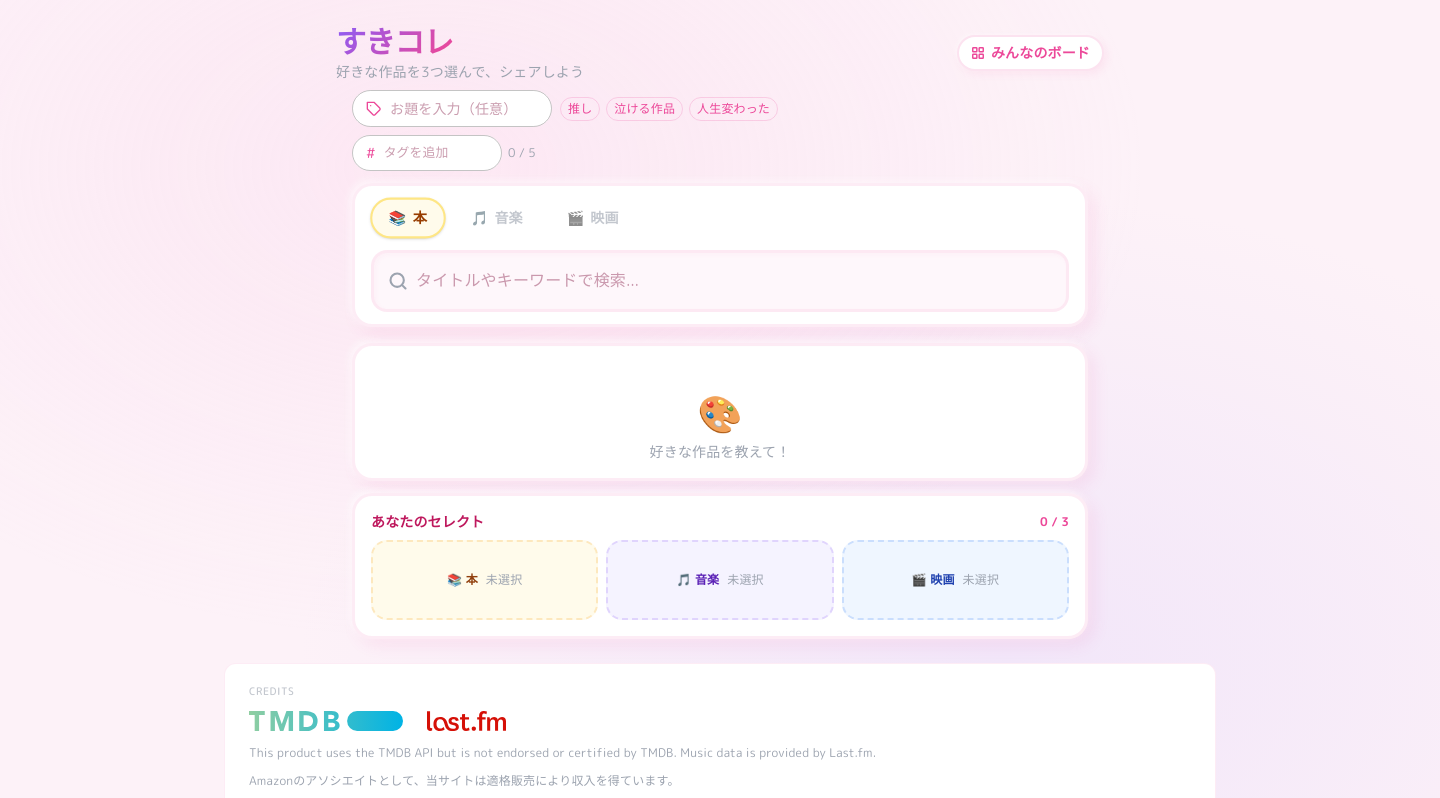
Test: SearchPage integration (no mocked hooks) › searches for a book and displays results
The image size is (1440, 798).
Type "村上春樹" into the field with placeholder "タイトルやキーワードで検索...". click: (741, 280)
box: [416,252,1066,308]
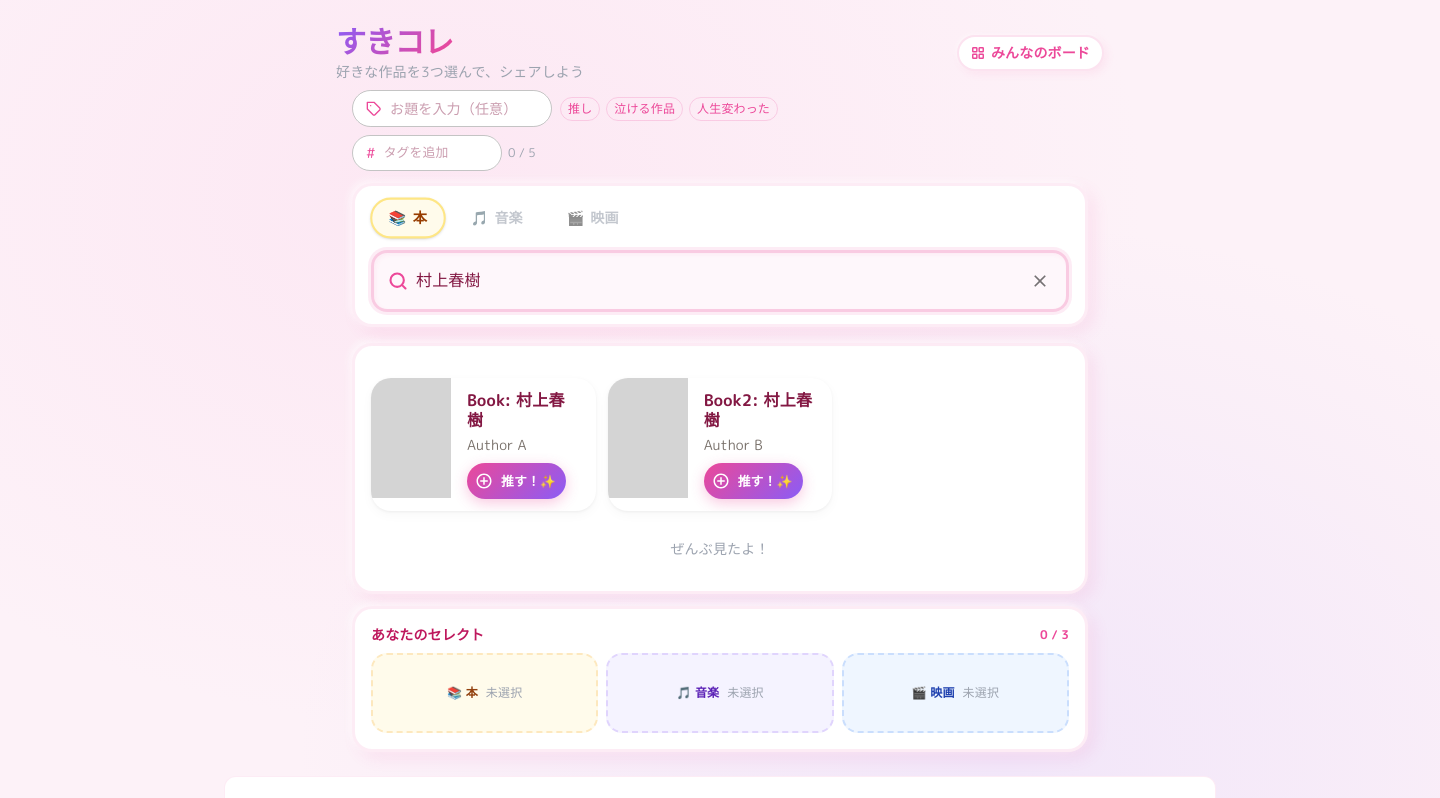
Check: the heading "Book: 村上春樹" is shown, box [467,390,580,431]
Check: the heading "Book2: 村上春樹" is shown, box [704,390,816,431]
